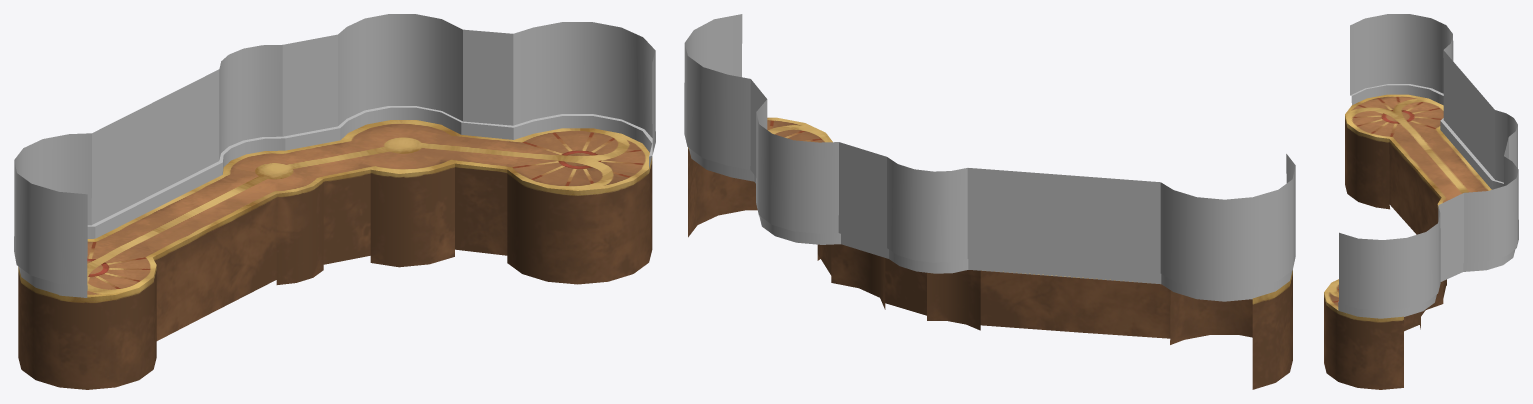
File: Aries_Room.fbx
3 views of the same model, side by side, from view 1: azimuth 30°, elevation 25°; view 2: azimuth 150°, elevation 25°; view 3: azimuth 270°, elevation 25° (orthographic). The views are drawn at different scales.
Parts seen in each view (by area): view 1: Floor, Aries_std_Wall; view 2: Aries_std_Wall, Floor; view 3: Aries_std_Wall, Floor.
Boxes of the visible parts, x1=… form: Floor: x1=18, y1=120, x2=652, y2=389; Aries_std_Wall: x1=14, y1=14, x2=655, y2=297; Aries_std_Wall: x1=684, y1=14, x2=1295, y2=301; Floor: x1=688, y1=117, x2=1292, y2=389; Aries_std_Wall: x1=1338, y1=14, x2=1518, y2=318; Floor: x1=1324, y1=94, x2=1491, y2=389.
Size of the model in its own units: 103 by 31.84 by 37.3.
